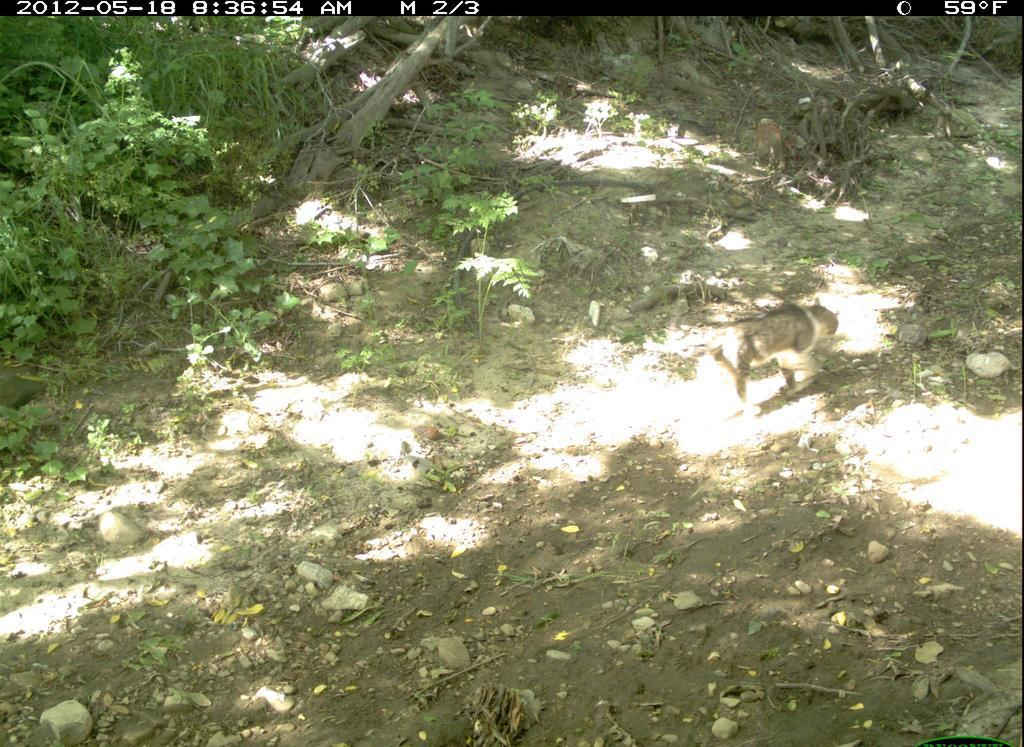cat: (676, 295, 857, 422)
